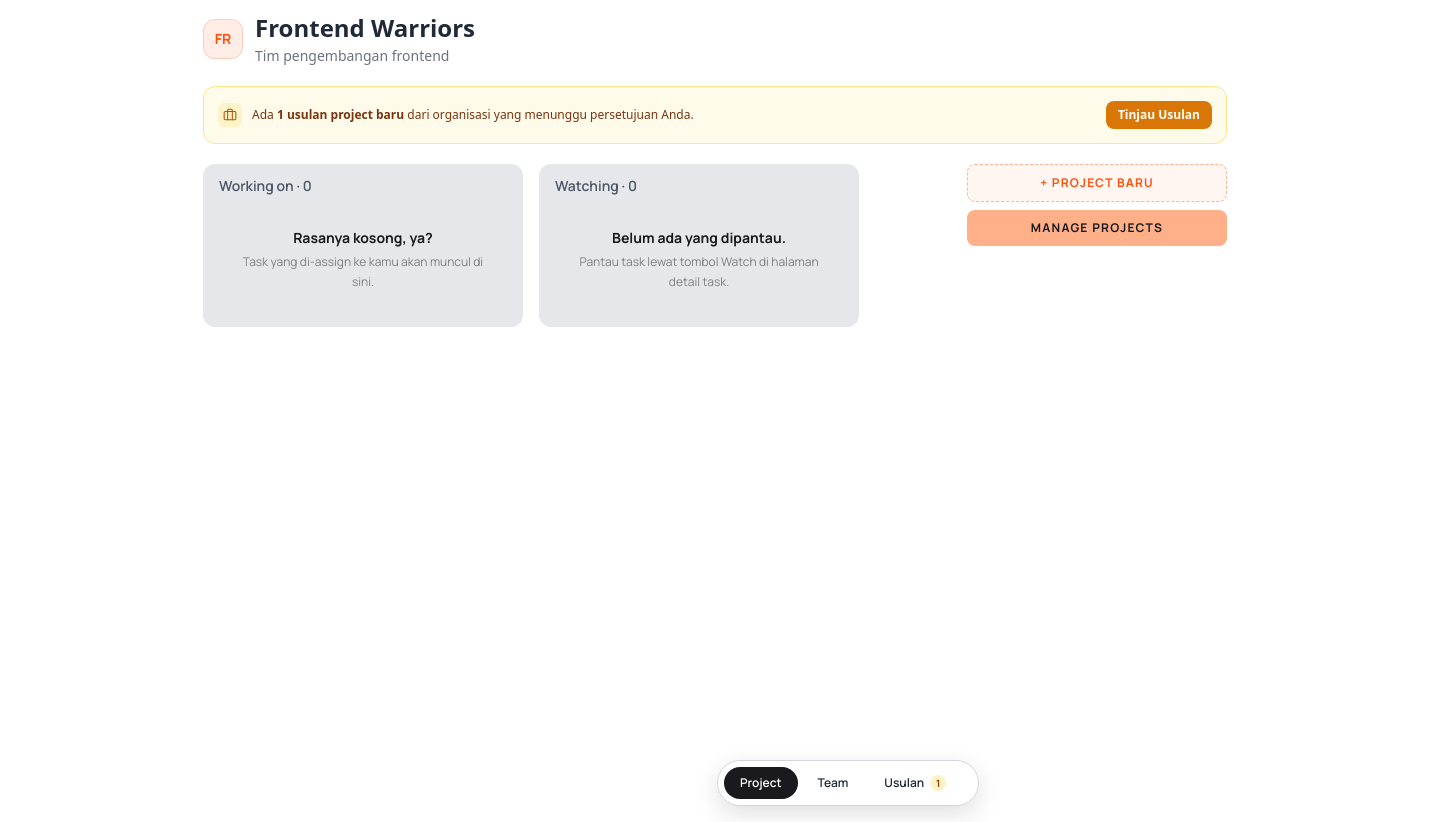
TeamPage - Tab Usulan in Cell Pill › switches to Usulan tab when clicking "Tinjau Usulan" in the warning banner
The image size is (1440, 822).
Expected: the heading "Frontend Warriors" is shown, left=255, top=12, right=475, bottom=44
Click the button "Tinjau Usulan" at x=1159, y=115, box left=1106, top=101, right=1212, bottom=129
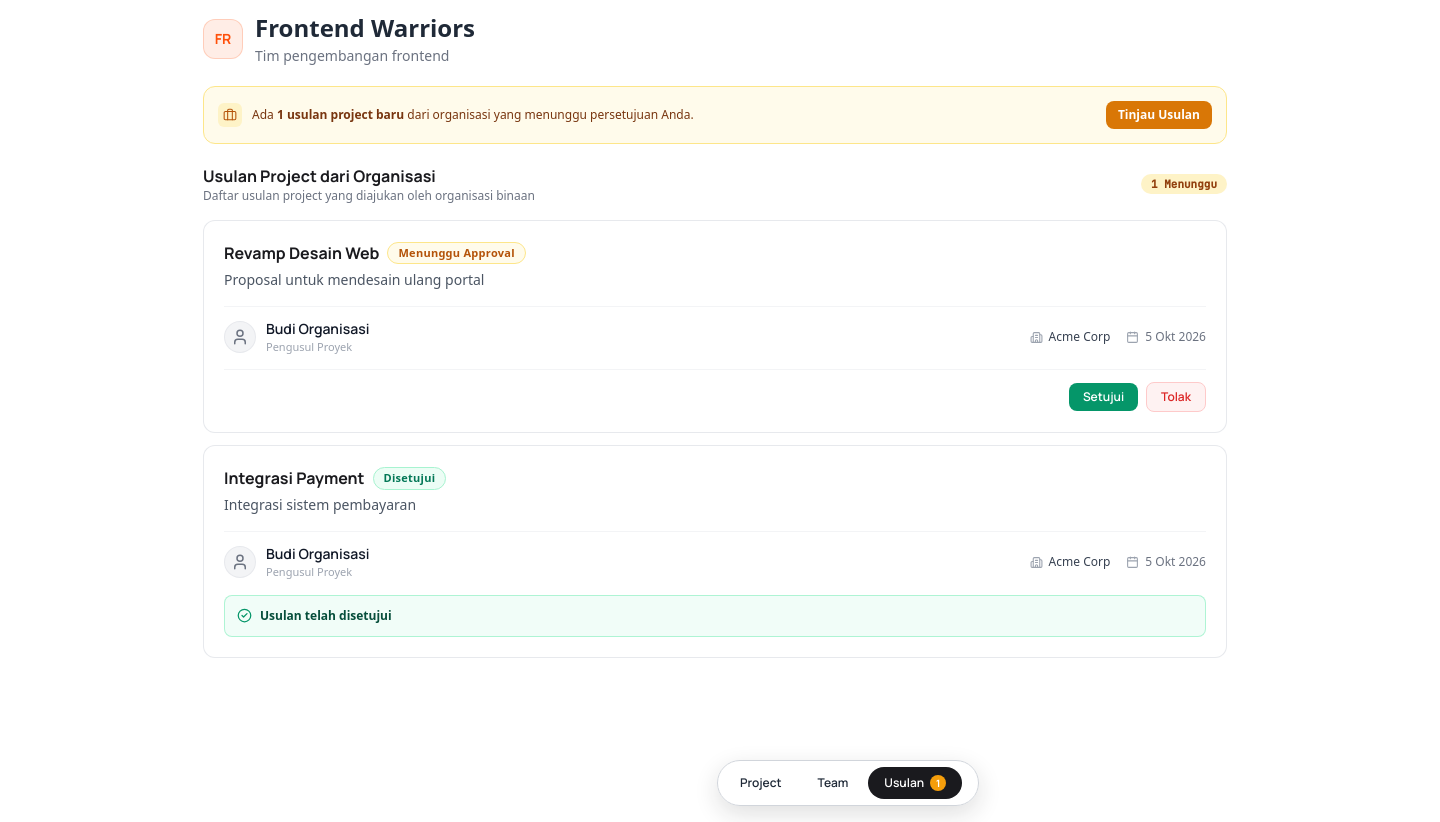
Expected: the heading "Revamp Desain Web" is shown, left=224, top=241, right=380, bottom=265
